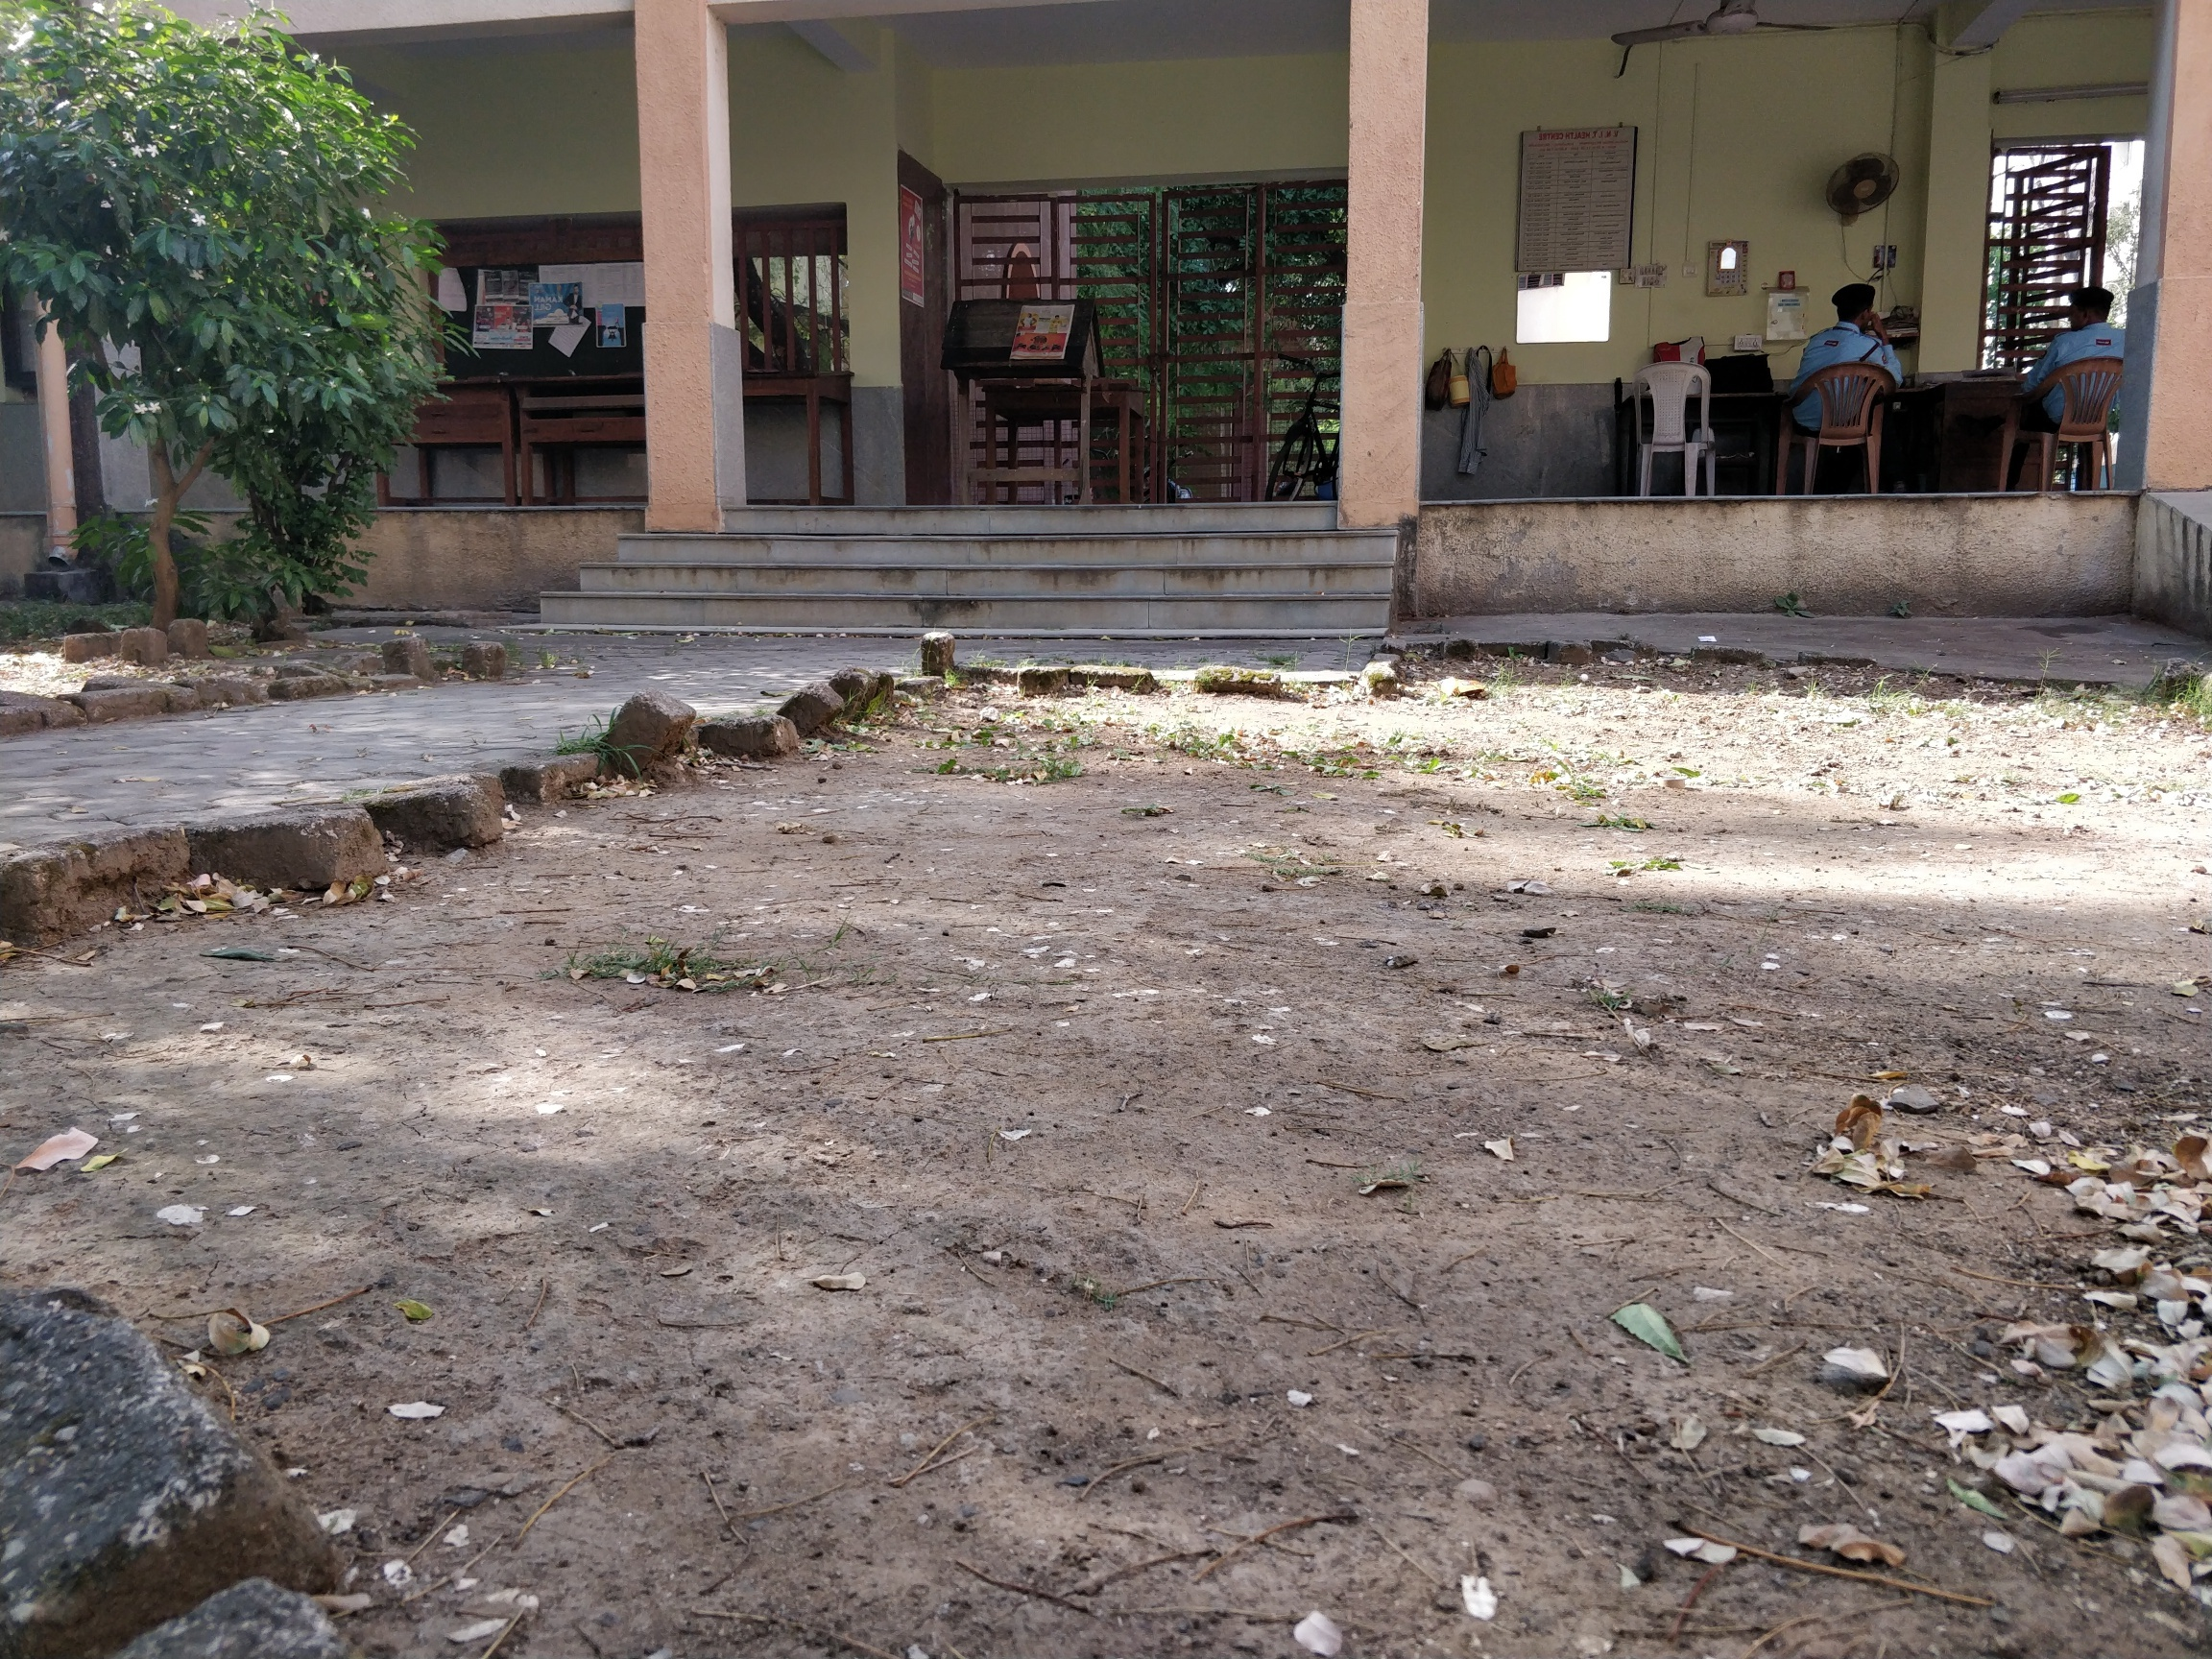stairs_up: (556, 479, 1386, 626)
